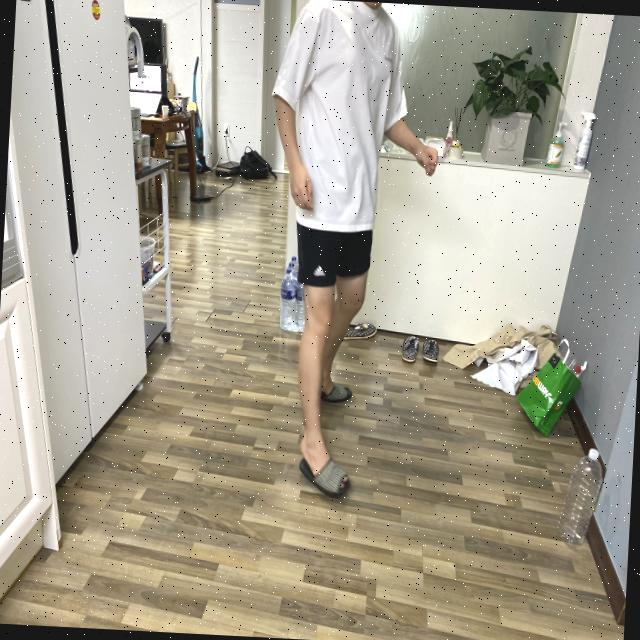no-boots: (279, 425, 369, 515)
